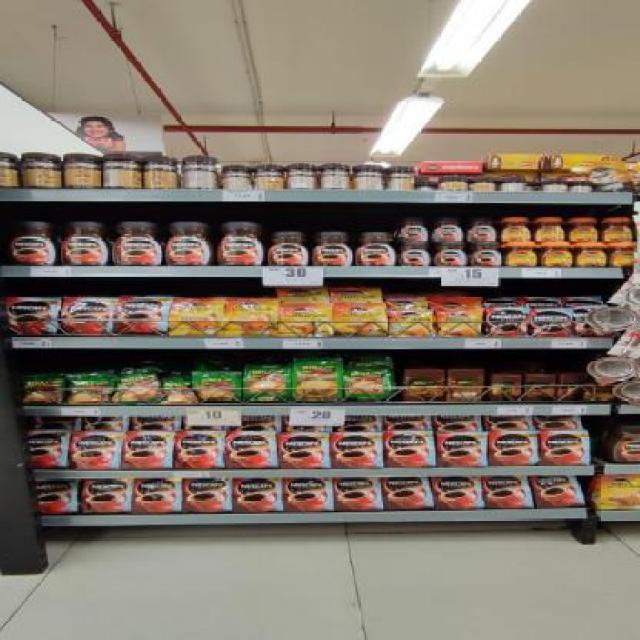Coffee: (110, 222, 164, 266), (9, 221, 58, 267), (213, 221, 264, 265), (59, 222, 109, 266), (164, 221, 212, 265), (228, 298, 280, 336), (3, 298, 55, 334), (169, 298, 221, 334), (276, 433, 328, 469), (116, 298, 166, 334), (72, 433, 119, 471), (62, 298, 111, 334), (330, 434, 381, 468), (282, 477, 333, 511), (227, 432, 275, 468), (122, 432, 170, 468), (176, 432, 223, 468), (541, 429, 590, 463), (279, 305, 330, 337), (385, 431, 433, 465), (22, 432, 66, 469), (437, 433, 486, 465), (134, 478, 180, 512), (234, 478, 281, 511), (433, 477, 481, 509), (83, 479, 131, 511), (332, 305, 383, 335), (490, 432, 536, 465), (266, 232, 310, 266), (311, 231, 352, 267), (334, 478, 380, 510), (184, 478, 230, 510), (482, 477, 529, 508), (34, 481, 78, 514), (535, 477, 583, 507), (600, 474, 640, 510), (356, 232, 397, 266), (384, 478, 430, 508), (486, 309, 527, 337), (438, 311, 481, 337), (389, 310, 430, 336), (532, 309, 570, 337), (398, 240, 431, 266), (432, 215, 464, 241), (434, 242, 468, 266), (398, 216, 431, 240), (467, 243, 501, 265), (466, 216, 497, 240), (604, 218, 635, 242), (578, 242, 608, 266), (536, 217, 564, 241), (542, 242, 570, 266), (507, 243, 537, 265), (570, 217, 598, 239), (504, 218, 531, 240), (612, 243, 636, 265)
